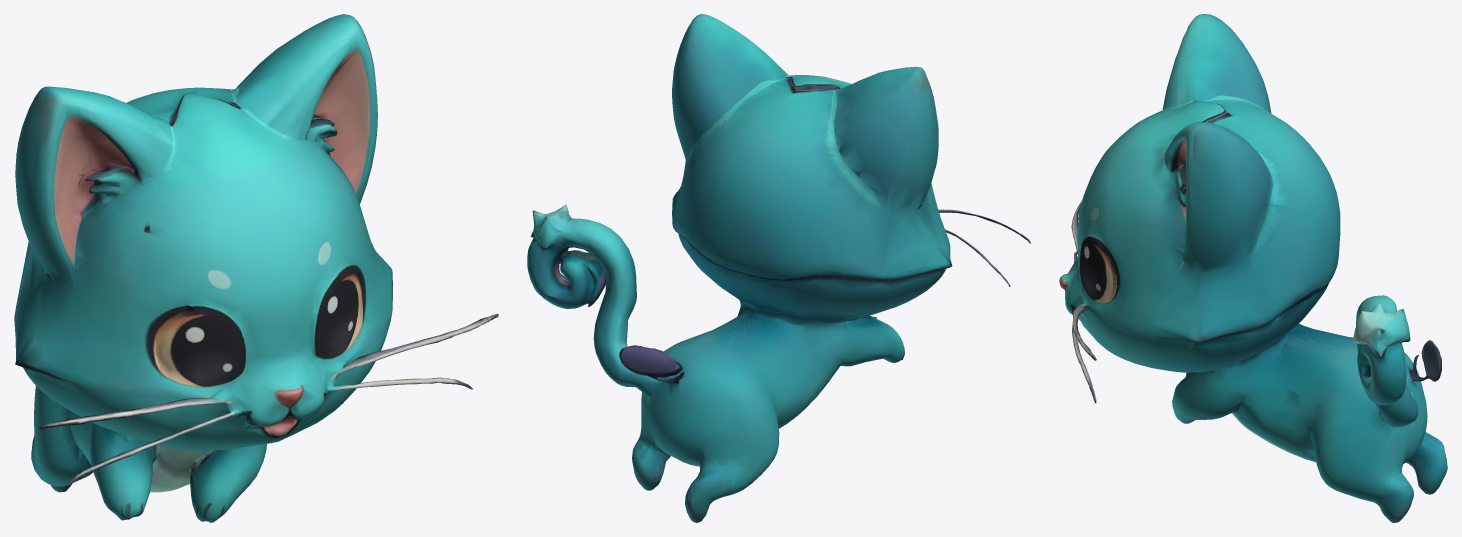
The model's file is hero3d-cat-anim.glb.
The picture shows the model from 3 angles, left to right: view 1: azimuth 30°, elevation 25°; view 2: azimuth 150°, elevation 25°; view 3: azimuth 270°, elevation 25°; orthographic projection. The views are drawn at different scales.
Bounding box in the file's own units: 1.89 × 2 × 1.67.
Materials: 1 (1 with a texture image).
